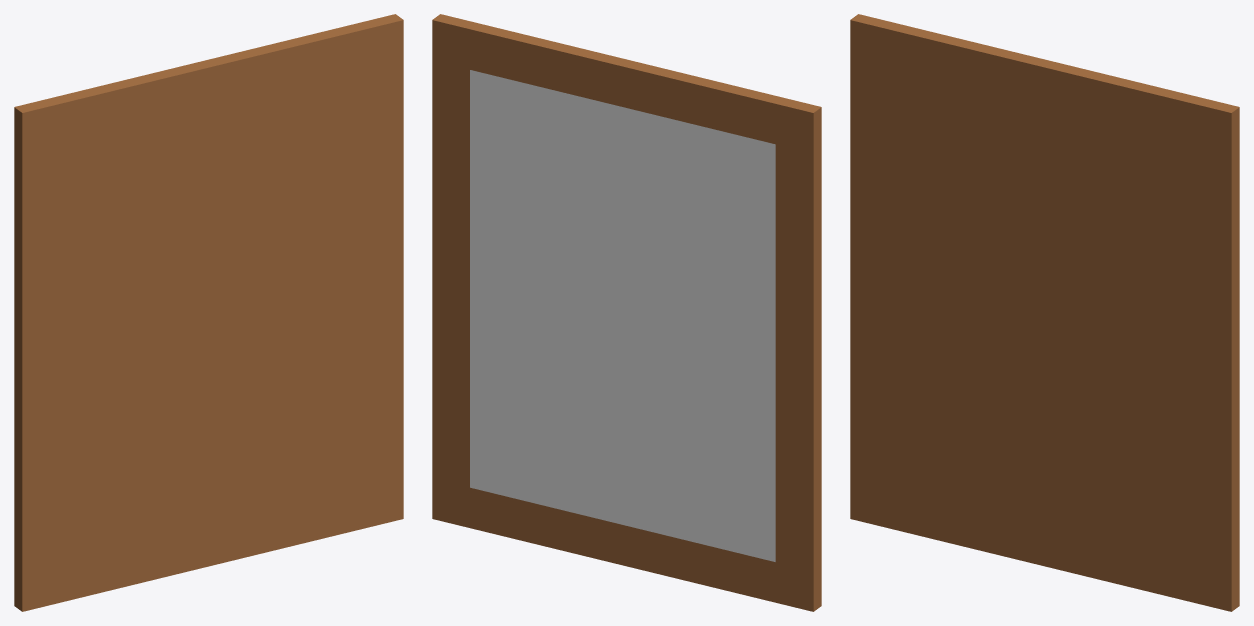
The model's file is paysage-cadre.glb.
3 renders of one model, left to right at view 1: azimuth 30°, elevation 25°; view 2: azimuth 150°, elevation 25°; view 3: azimuth 330°, elevation 25°, orthographic.
Parts seen in each view (by area): view 1: Cube.002; view 2: Cube.002; view 3: Cube.002.
Boxes of the visible parts, x1,y1,x2,y2 form: Cube.002: (14,14,403,611); Cube.002: (432,14,821,611); Cube.002: (850,14,1239,611).
Bounding box in the file's own units: 2 × 2.5 × 0.0749.
